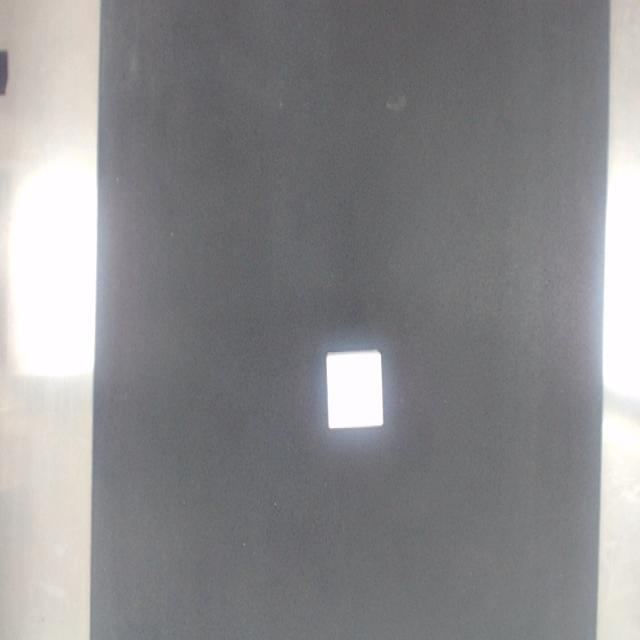Blanco: (327, 351, 382, 428)
